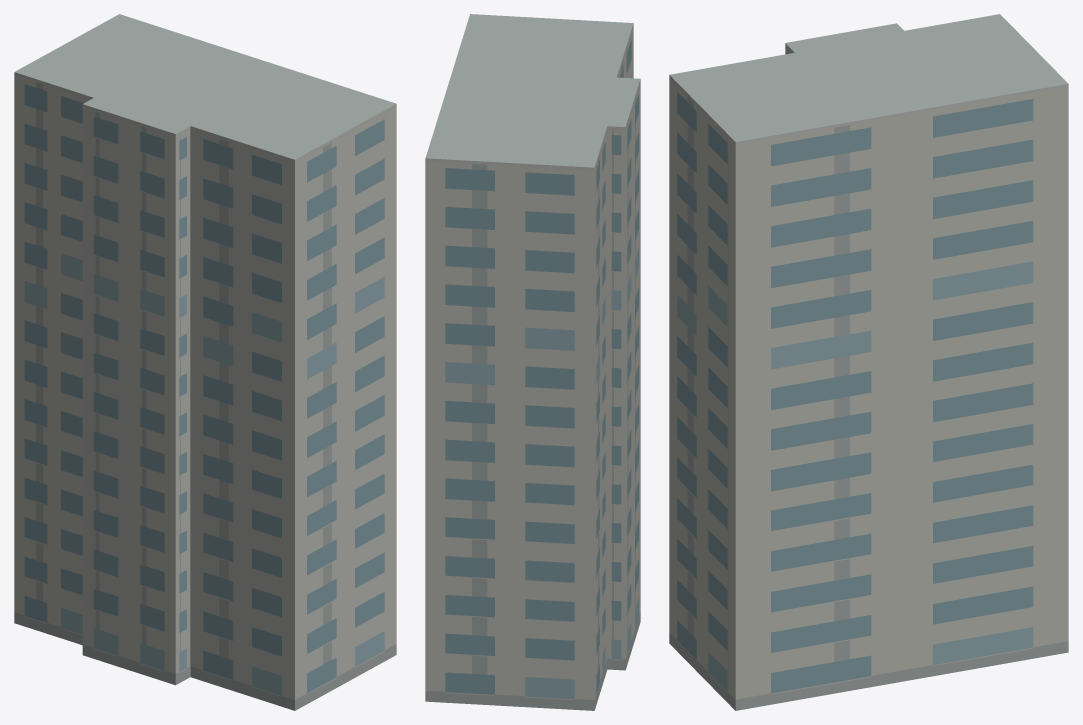
File: residential-a3f9d596-62b0-4a27-bda6-9252580a3c36.glb
The picture shows the model from 3 angles, left to right: view 1: azimuth 30°, elevation 25°; view 2: azimuth 150°, elevation 25°; view 3: azimuth 270°, elevation 25°; orthographic projection. The views are drawn at different scales.
Visible parts, largest first — view 1: residential-a3f9d596-62b0-4a27-bda6-9252580a3c36.tmp; view 2: residential-a3f9d596-62b0-4a27-bda6-9252580a3c36.tmp; view 3: residential-a3f9d596-62b0-4a27-bda6-9252580a3c36.tmp.
Part boxes in pixels (x1=…): residential-a3f9d596-62b0-4a27-bda6-9252580a3c36.tmp: x1=14, y1=14, x2=396, y2=710; residential-a3f9d596-62b0-4a27-bda6-9252580a3c36.tmp: x1=425, y1=14, x2=640, y2=710; residential-a3f9d596-62b0-4a27-bda6-9252580a3c36.tmp: x1=669, y1=14, x2=1068, y2=710.
Size of the model in its own units: 21.75 by 45 by 28.62.
